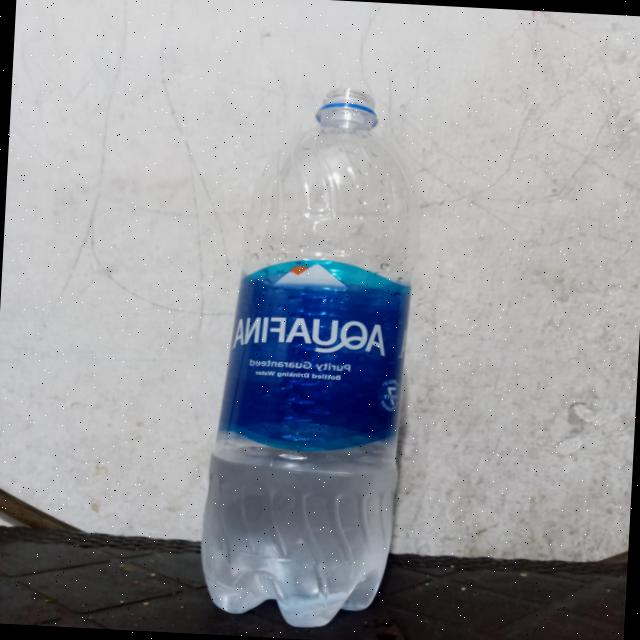bottle: (188, 76, 442, 638)
label: (212, 246, 428, 464)
